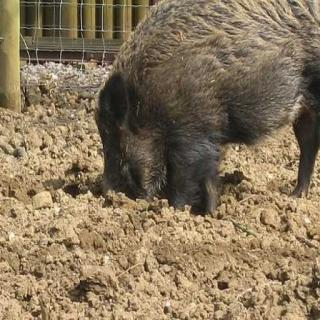Pig: (66, 3, 320, 261)
